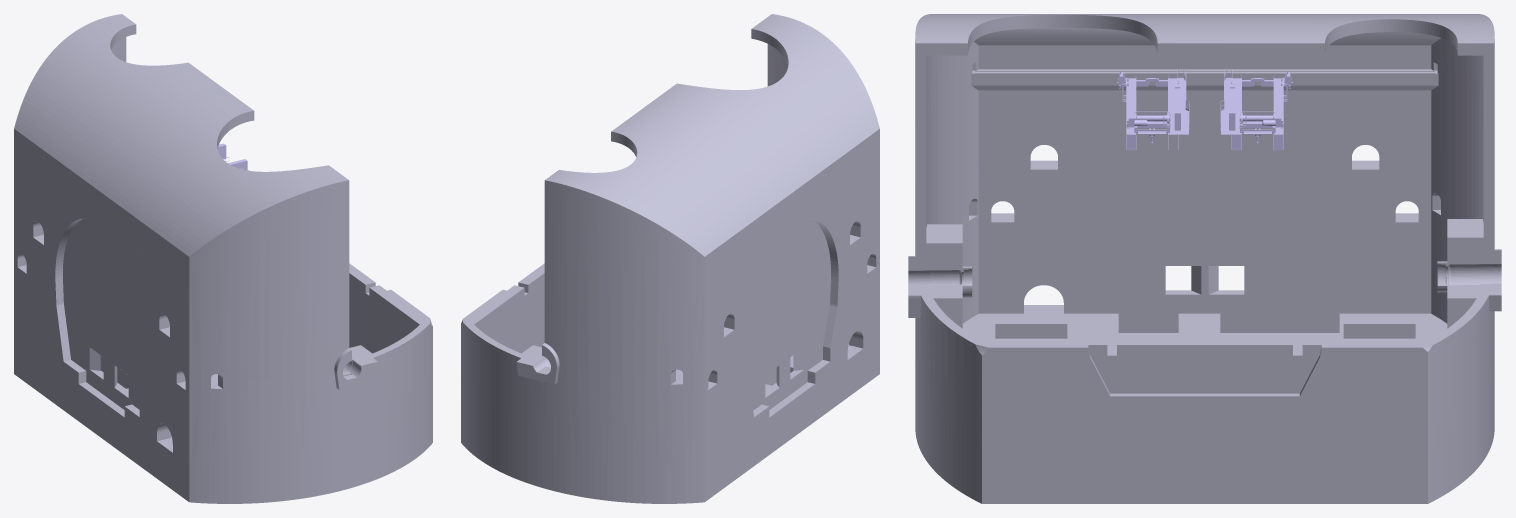
Rendered from UX15-cut3.glb.
3 renders of one model, left to right at view 1: azimuth 30°, elevation 25°; view 2: azimuth 150°, elevation 25°; view 3: azimuth 270°, elevation 25°, orthographic. The views are drawn at different scales.
Parts seen in each view (by area): view 1: null; view 2: null; view 3: null.
Boxes of the visible parts, x1,y1,x2,y2 form: null: (14, 14, 432, 503); null: (461, 14, 879, 503); null: (908, 14, 1501, 503).
Size of the model in its own units: 34 by 41.2 by 56.3.
